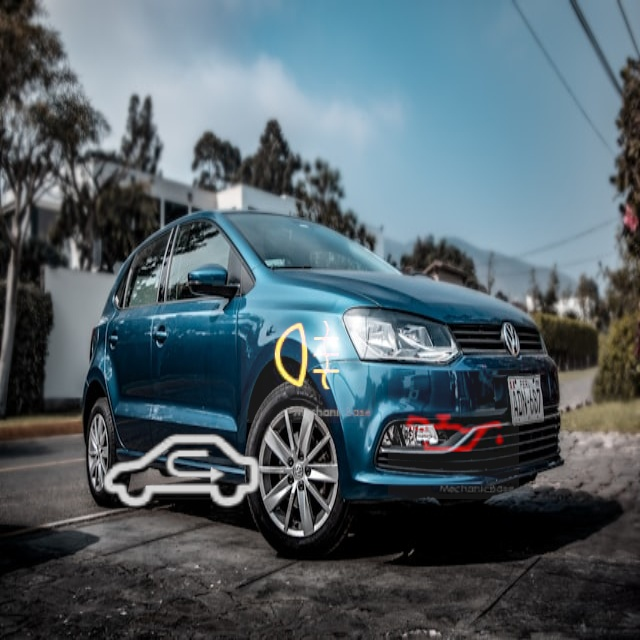symbol: (80, 371, 284, 575), (241, 288, 376, 423), (388, 368, 519, 499)
